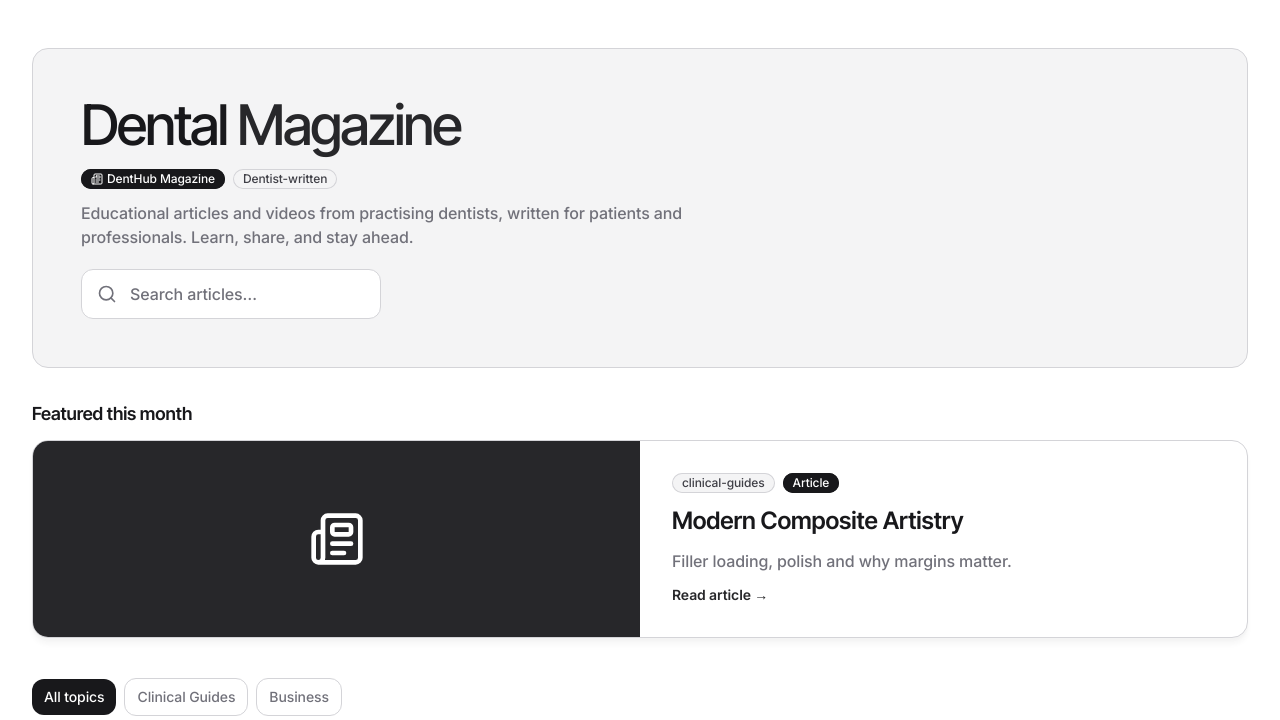
Test: Magazine › closes the viewer on Escape
Click the button named "read article →" at (640, 539), box [32, 440, 1248, 638]
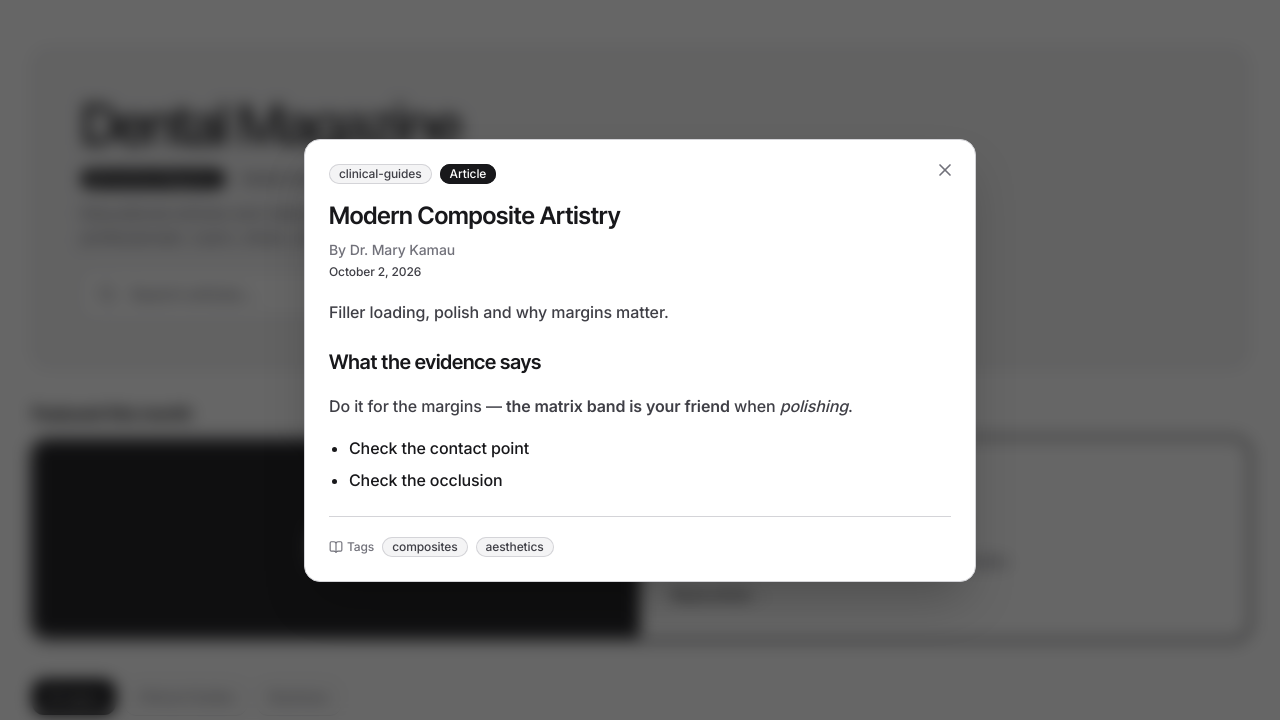
Now the dialog is shown, box [304, 138, 976, 582]
Press Escape
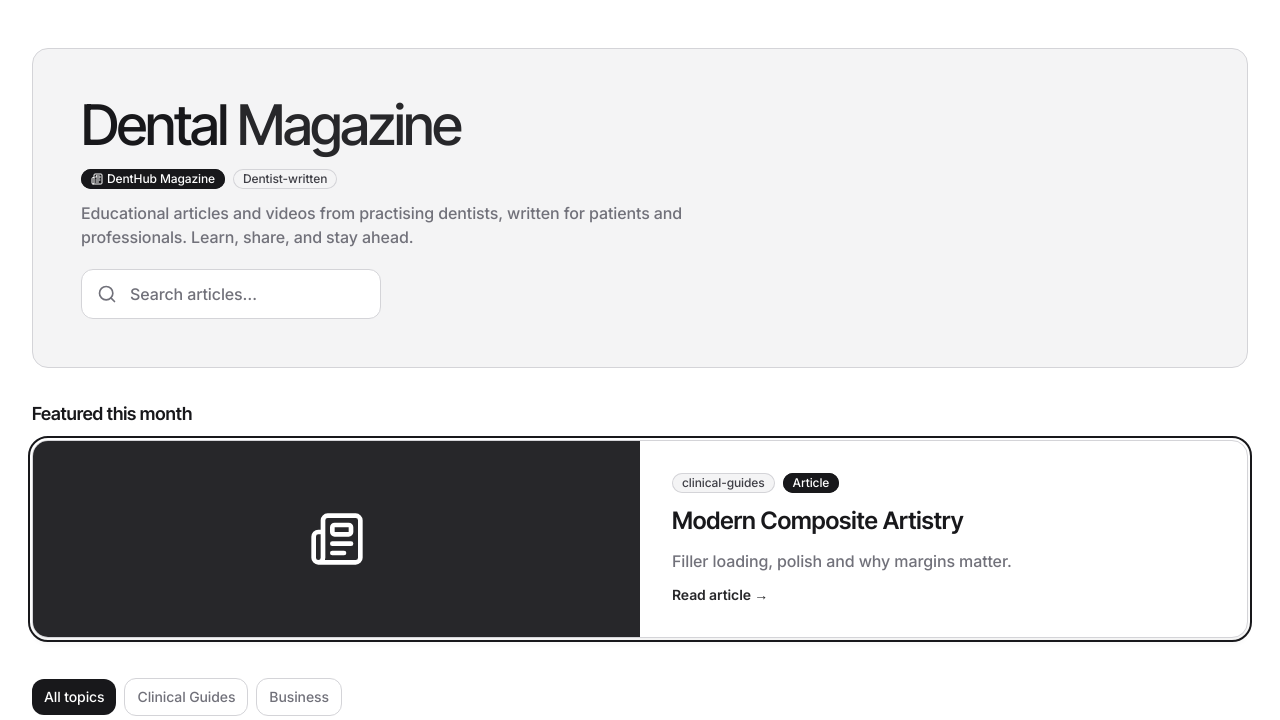
Now the dialog is gone
